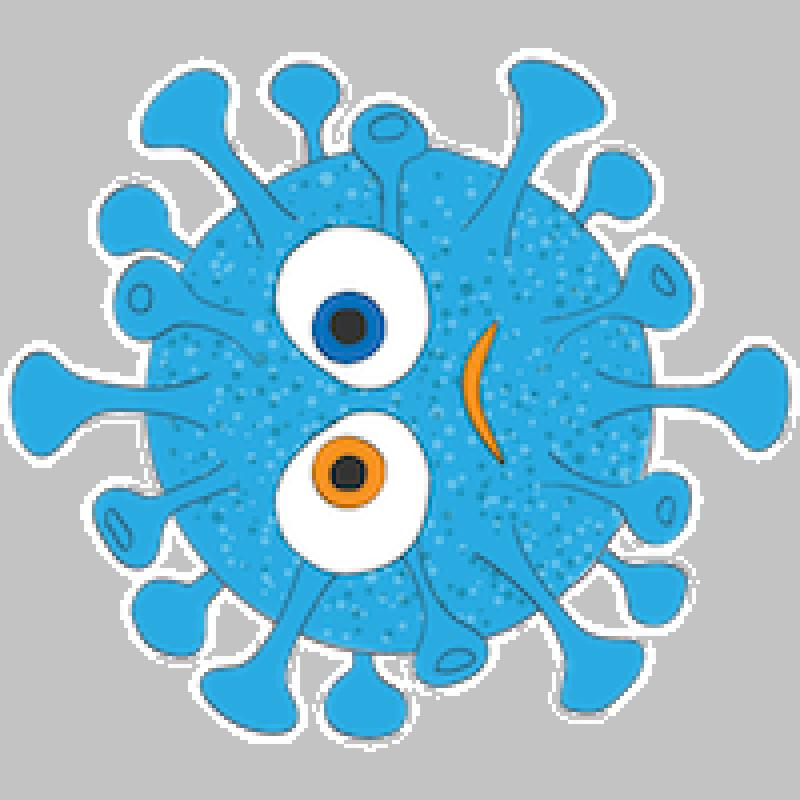corona2: (0, 0, 796, 796)
